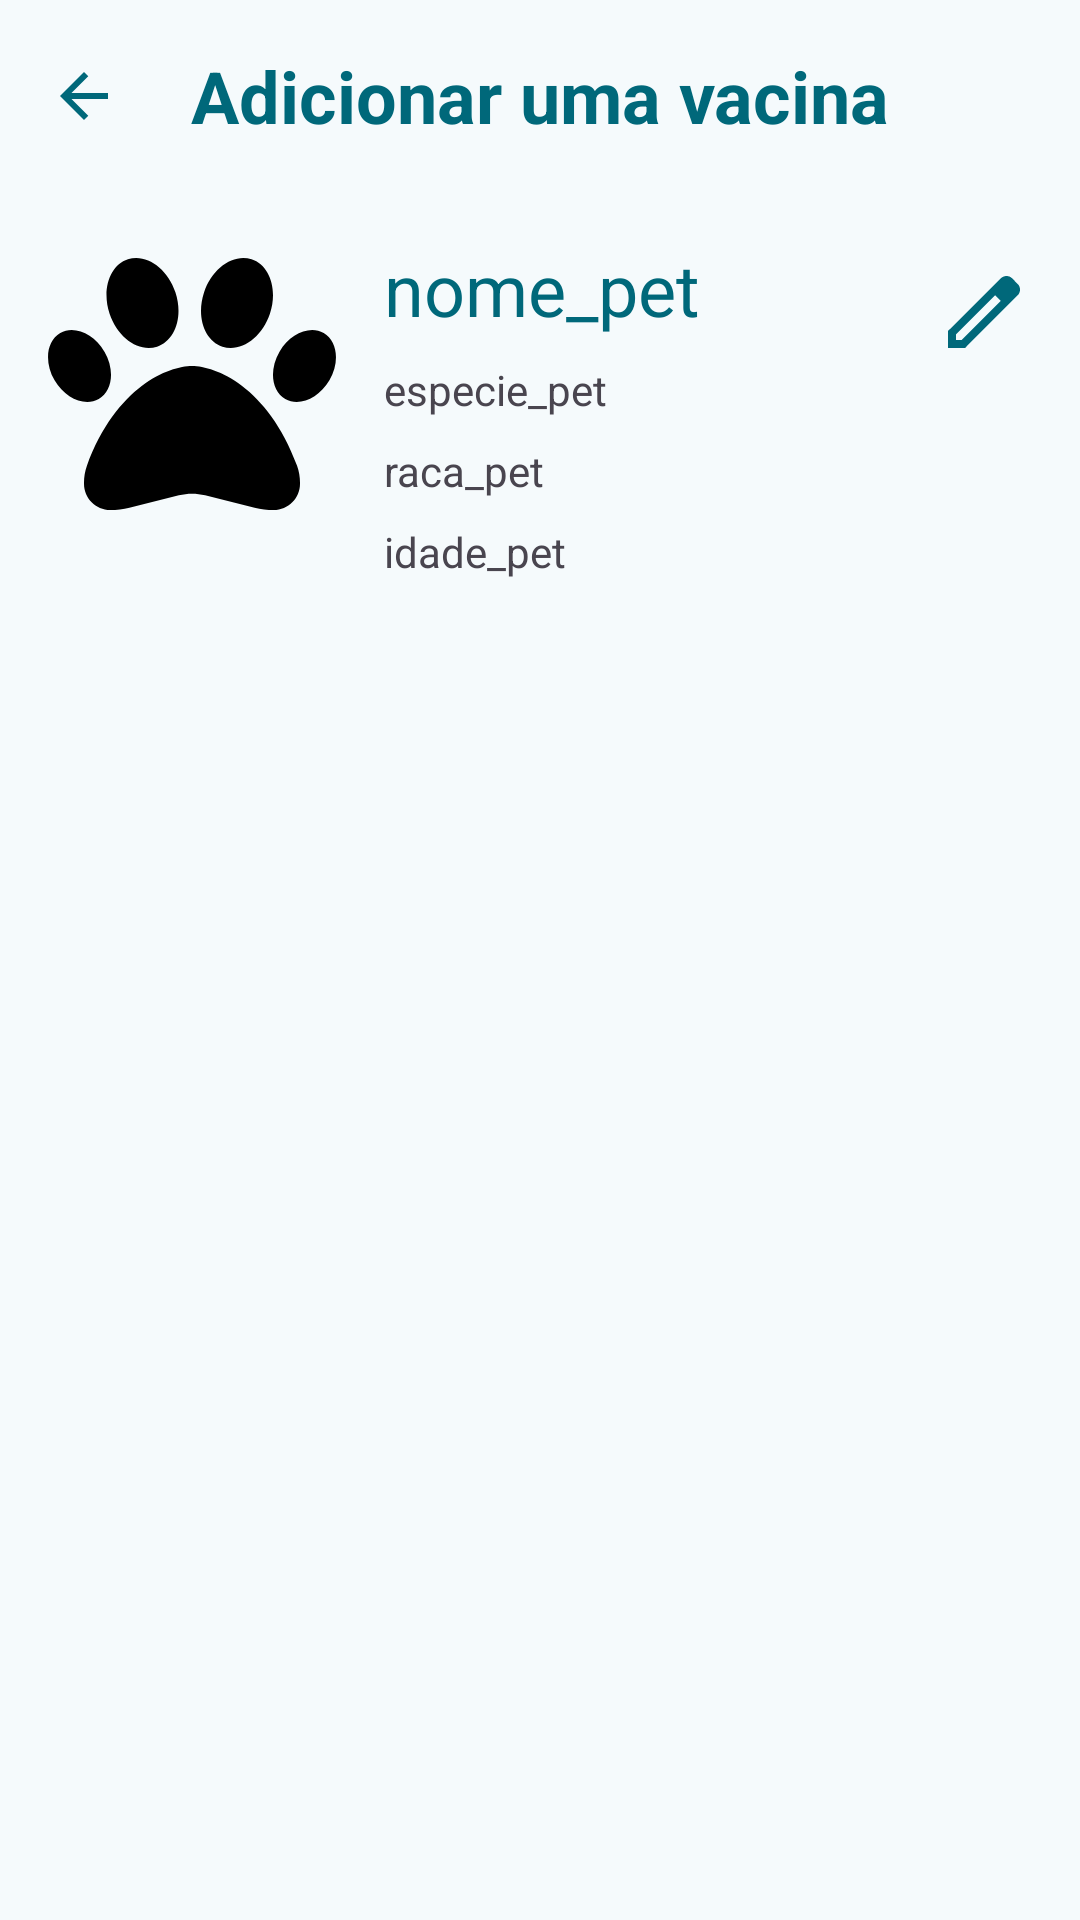

Screen size 1080 x 1920. Icon name, then its box in pixels as Rect(x1, y1, x2, y2):
arrow back: Rect(60, 72, 108, 120)
edit: Rect(948, 276, 1020, 348)
paw: Rect(48, 258, 336, 510)
